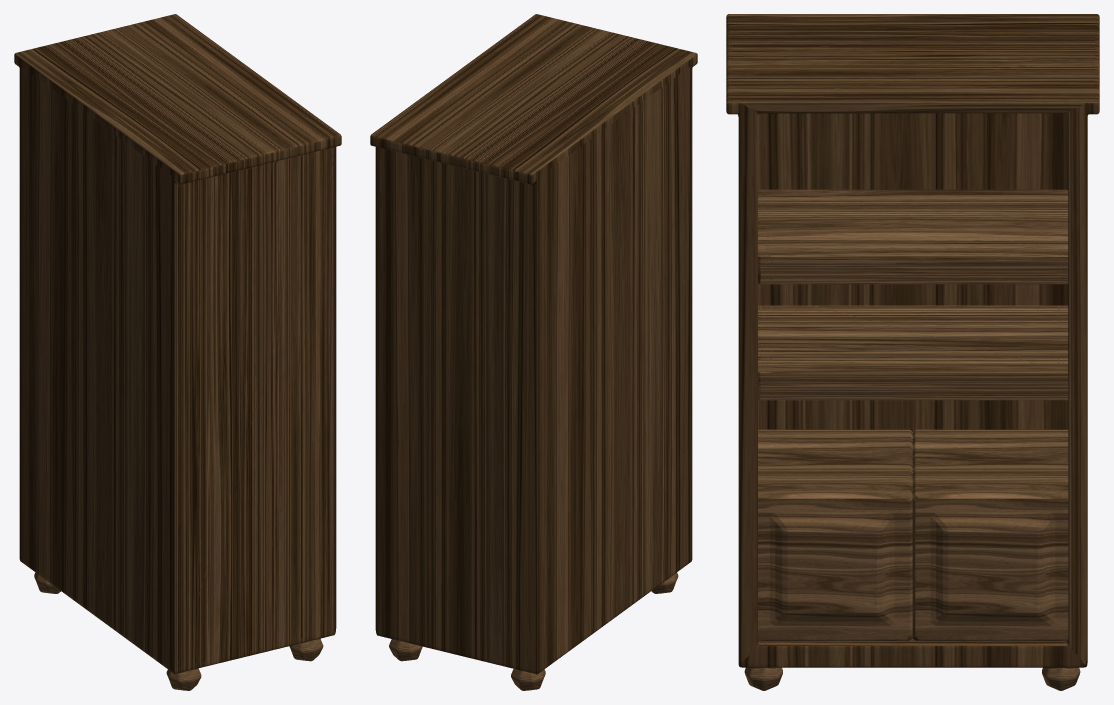
File: bookshelf.glb
3 renders of one model, left to right at view 1: azimuth 30°, elevation 25°; view 2: azimuth 150°, elevation 25°; view 3: azimuth 270°, elevation 25°, orthographic. The views are drawn at different scales.
Parts seen in each view (by area): view 1: Object_3, Object_4; view 2: Object_3, Object_5; view 3: Object_5, Object_3, Object_4.
Part boxes in pixels (x1,y1,x2,y2): Object_3: (14, 14, 341, 673); Object_4: (166, 638, 323, 690); Object_3: (370, 14, 697, 674); Object_5: (389, 639, 545, 690); Object_5: (758, 189, 1080, 690); Object_3: (726, 14, 1099, 667); Object_4: (744, 667, 782, 690).
Bounding box in the file's own units: 2.61 × 8.18 × 4.63.
3 materials, 2 textured.
